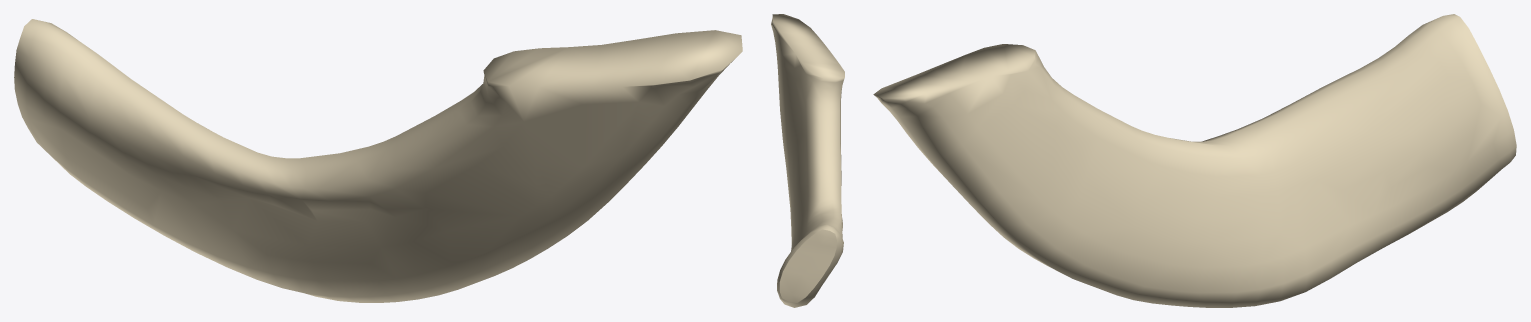
Rendered from esqueleto-costal-cartilage-of-tenth-rib-r.glb.
3 views of the same model, side by side, from view 1: azimuth 30°, elevation 25°; view 2: azimuth 150°, elevation 25°; view 3: azimuth 270°, elevation 25° (orthographic). The views are drawn at different scales.
Parts seen in each view (by area): view 1: Costal cartilage of tenth rib.r; view 2: Costal cartilage of tenth rib.r; view 3: Costal cartilage of tenth rib.r.
Part boxes in pixels (box(x1,y1,x2,y2)): Costal cartilage of tenth rib.r: box(14, 19, 742, 302); Costal cartilage of tenth rib.r: box(771, 14, 844, 307); Costal cartilage of tenth rib.r: box(873, 14, 1516, 307).
Bounding box in the file's own units: 0.0471 × 0.0359 × 0.0674.
